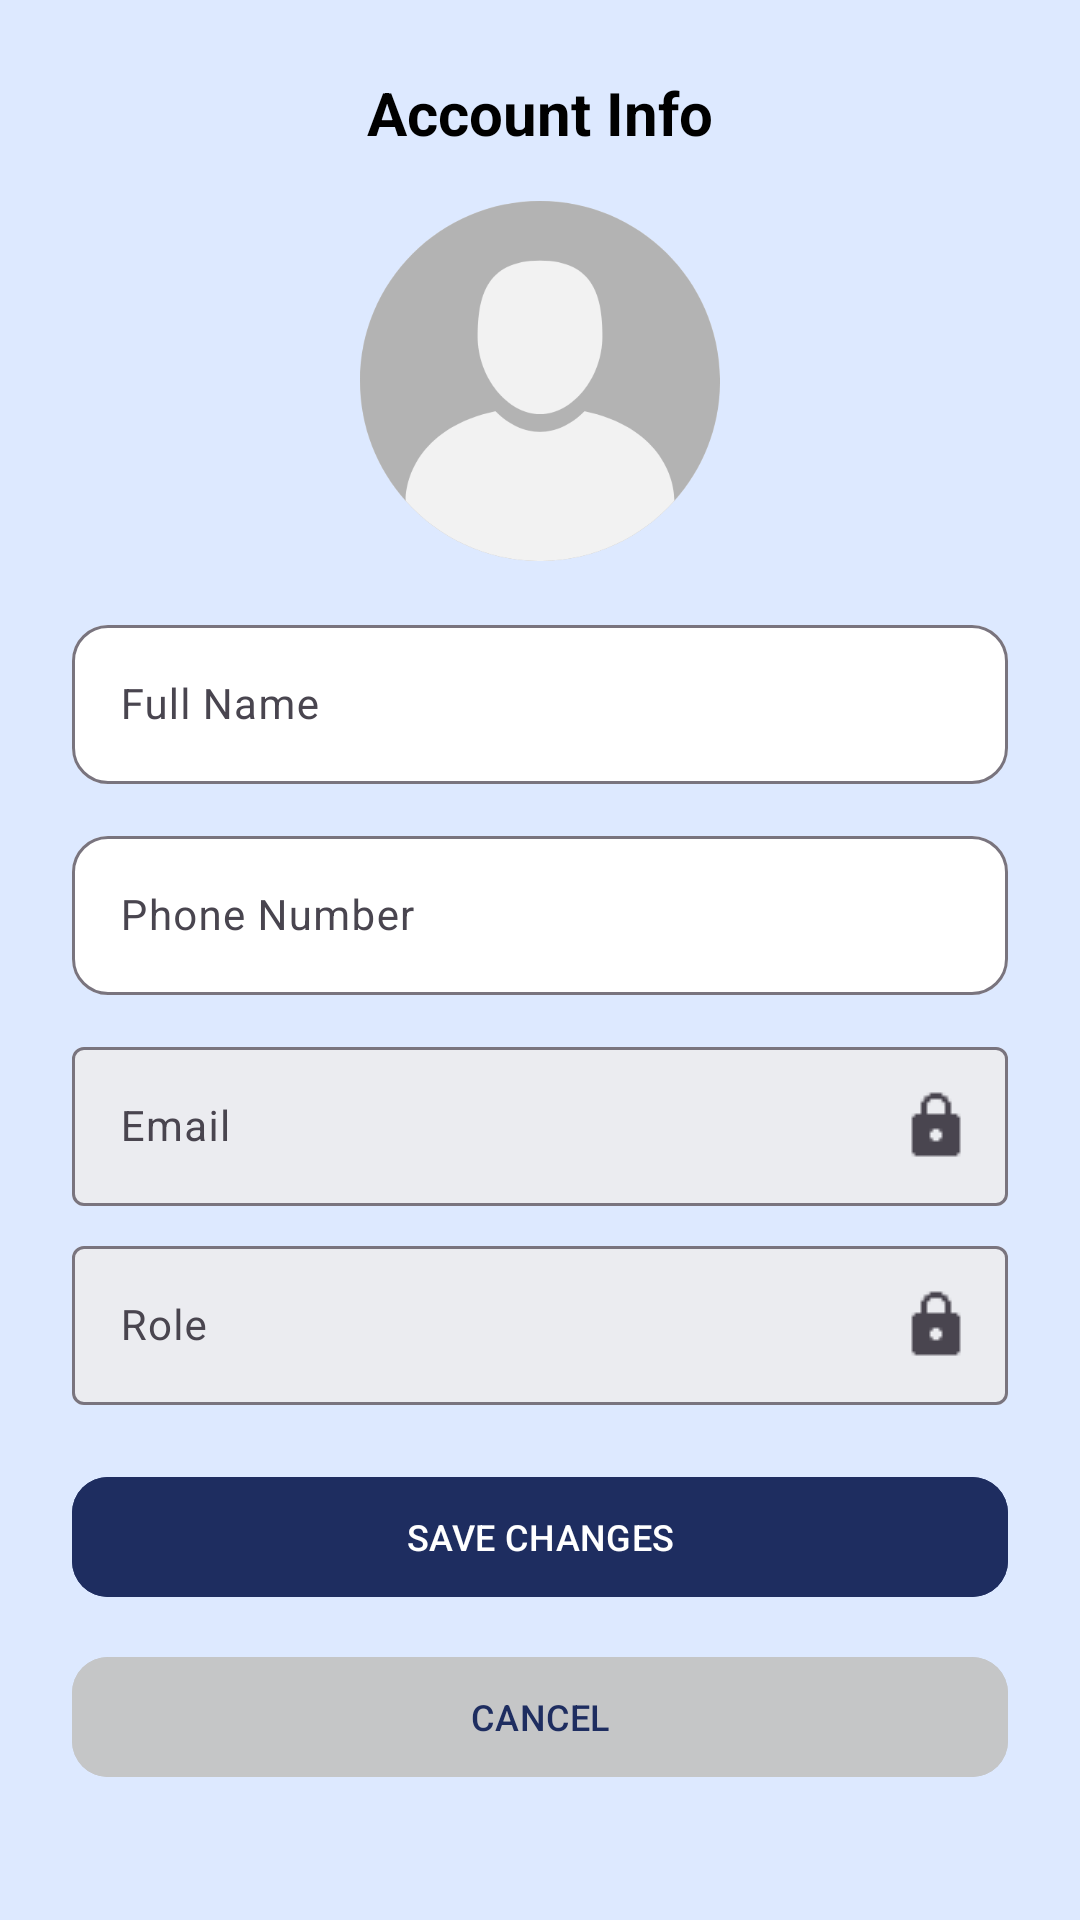

Screen size 1080 × 1920. Icon name, then its center in pixels as (x=x, y=y):
profile: (x=540, y=381)
